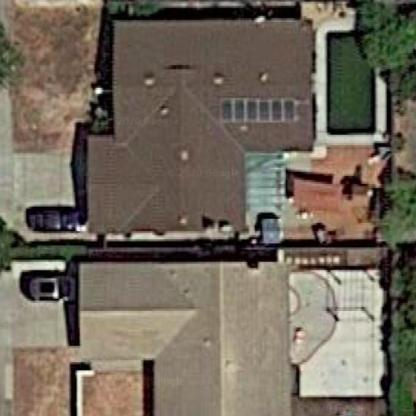car: (20, 197, 94, 242), (25, 267, 82, 304)
solar_panel: (218, 86, 304, 131)
swimming_pool: (319, 13, 395, 154)
